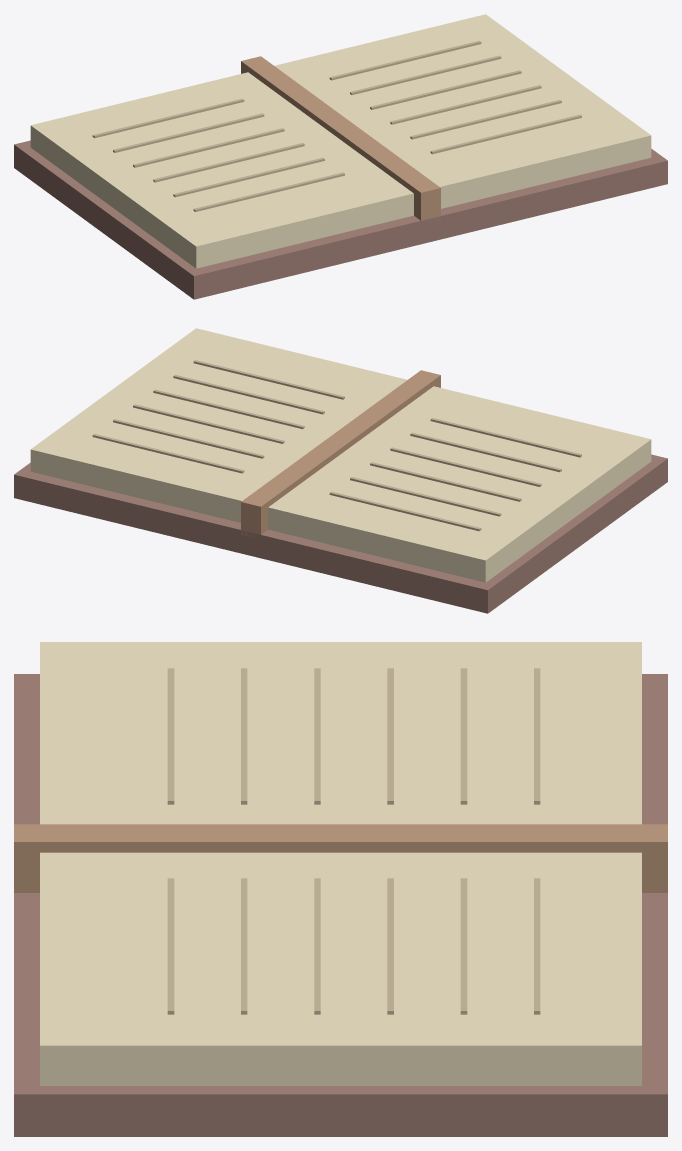
The model's file is open_book.glb.
The picture shows the model from 3 angles, top to bottom: view 1: azimuth 30°, elevation 25°; view 2: azimuth 150°, elevation 25°; view 3: azimuth 270°, elevation 25°; orthographic projection. The views are drawn at different scales.
Visible parts, largest first — view 1: page_block (×2), leather_cover (×2), text_rule (×12), spine; view 2: page_block (×2), leather_cover (×2), text_rule (×12), spine; view 3: page_block (×2), leather_cover (×2), spine, text_rule (×12).
Part boxes in pixels (x1,y1,x2,y2): page_block (×2): (30, 14, 651, 268); leather_cover (×2): (14, 140, 667, 299); text_rule (×12): (92, 40, 581, 211); spine: (241, 56, 440, 222); page_block (×2): (30, 328, 651, 582); leather_cover (×2): (14, 454, 667, 613); text_rule (×12): (92, 360, 581, 531); spine: (241, 370, 440, 538); page_block (×2): (40, 642, 641, 1085); leather_cover (×2): (14, 674, 667, 1136); spine: (14, 824, 667, 892); text_rule (×12): (167, 668, 540, 1014).
Size of the model in its own units: 3.8 by 0.395 by 2.5.
